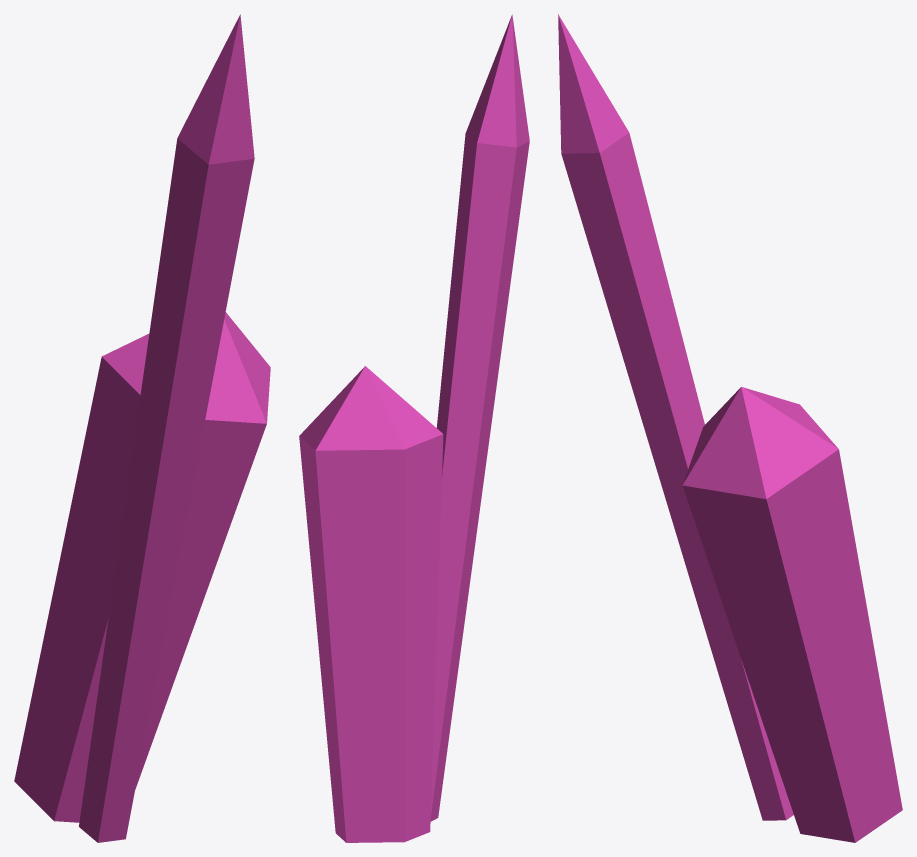
File: small_crystals_8_2.fbx
The picture shows the model from 3 angles, left to right: view 1: azimuth 30°, elevation 25°; view 2: azimuth 150°, elevation 25°; view 3: azimuth 270°, elevation 25°; orthographic projection. The views are drawn at different scales.
Parts seen in each view (by area): view 1: small crystals.022; view 2: small crystals.022; view 3: small crystals.022.
Part boxes in pixels (box(x1,y1,x2,y2)): small crystals.022: box(14, 14, 270, 842); small crystals.022: box(299, 14, 529, 842); small crystals.022: box(558, 14, 902, 842).
Bounding box in the file's own units: 75.37 × 340 × 131.
